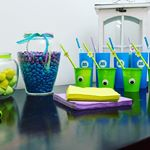cups: (121, 66, 143, 94), (94, 66, 116, 94), (72, 65, 94, 93)
